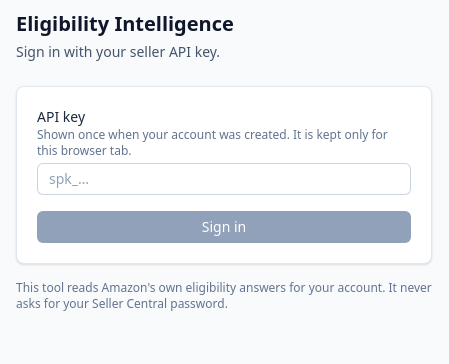
LoginPage › shows why a rejected key was rejected and stays on the form
Type "spk_wrong" into the password field labelled "API key" at x=224, y=179, box [37, 163, 411, 195]
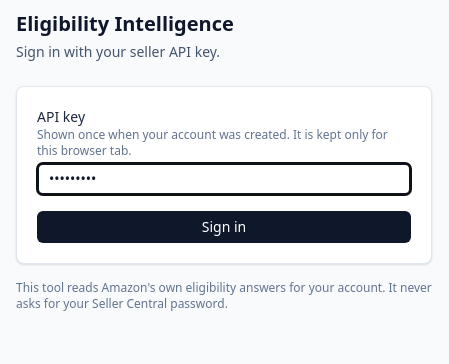
Click the button "Sign in" at x=224, y=227, box [37, 211, 411, 243]
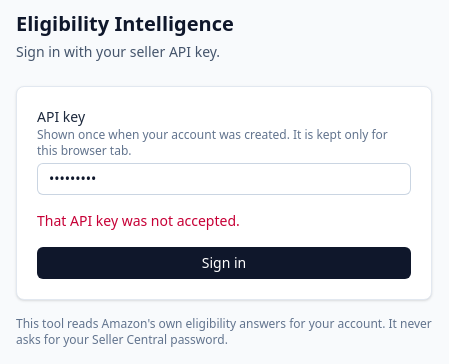
Check: the button "Sign in" is enabled, box [37, 247, 411, 279]
Check: the message shows "not accepted", box [37, 211, 240, 230]
